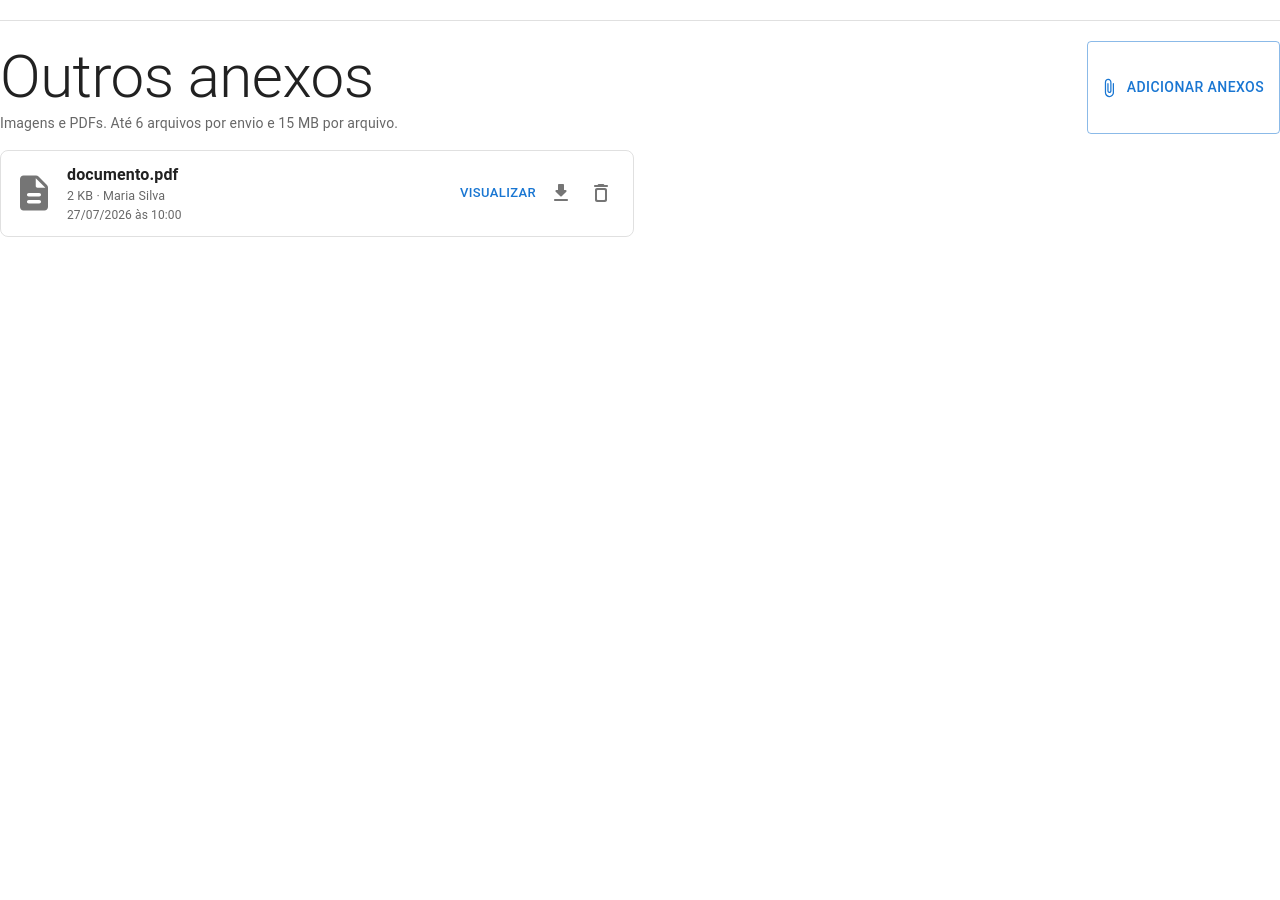
Scenario: RequestAttachments › confirms deletion and removes the attachment locally
Click the button named "Excluir documento.pdf": (601, 193) left=581, top=173, right=621, bottom=213
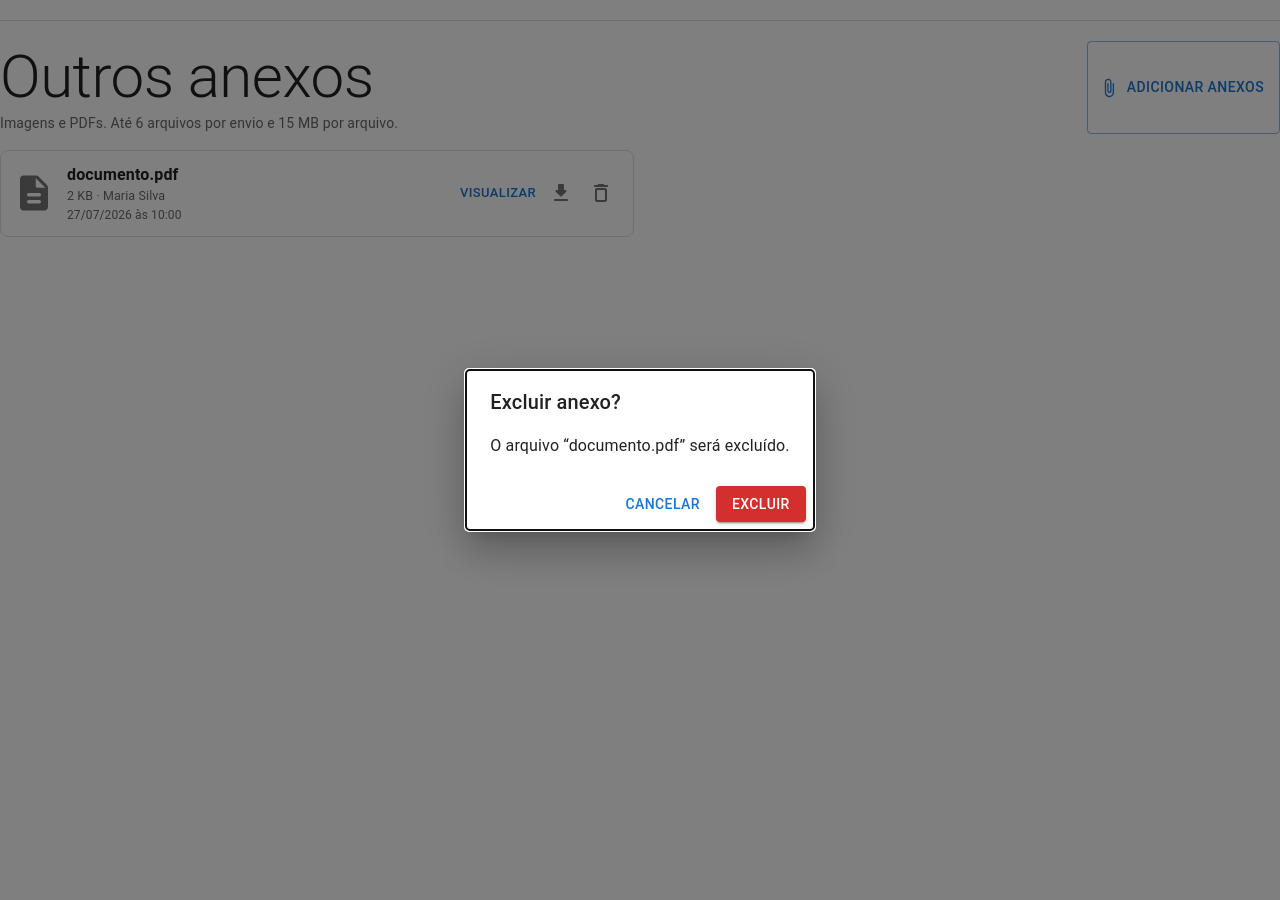
Now the heading "Excluir anexo?" is shown, box left=490, top=390, right=621, bottom=414
Click the button "Excluir": (761, 504) left=716, top=486, right=806, bottom=522
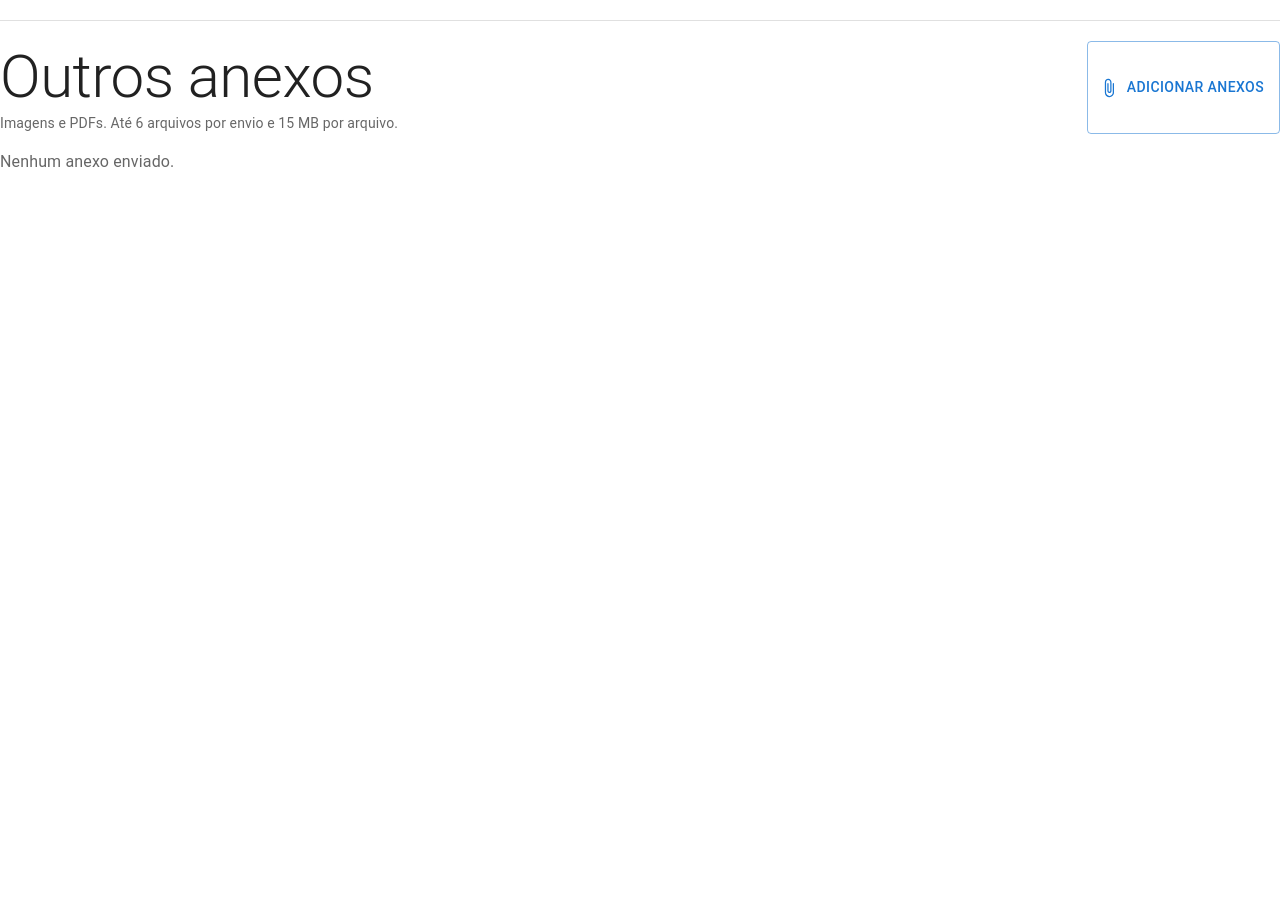
Now the text "documento.pdf" is gone
